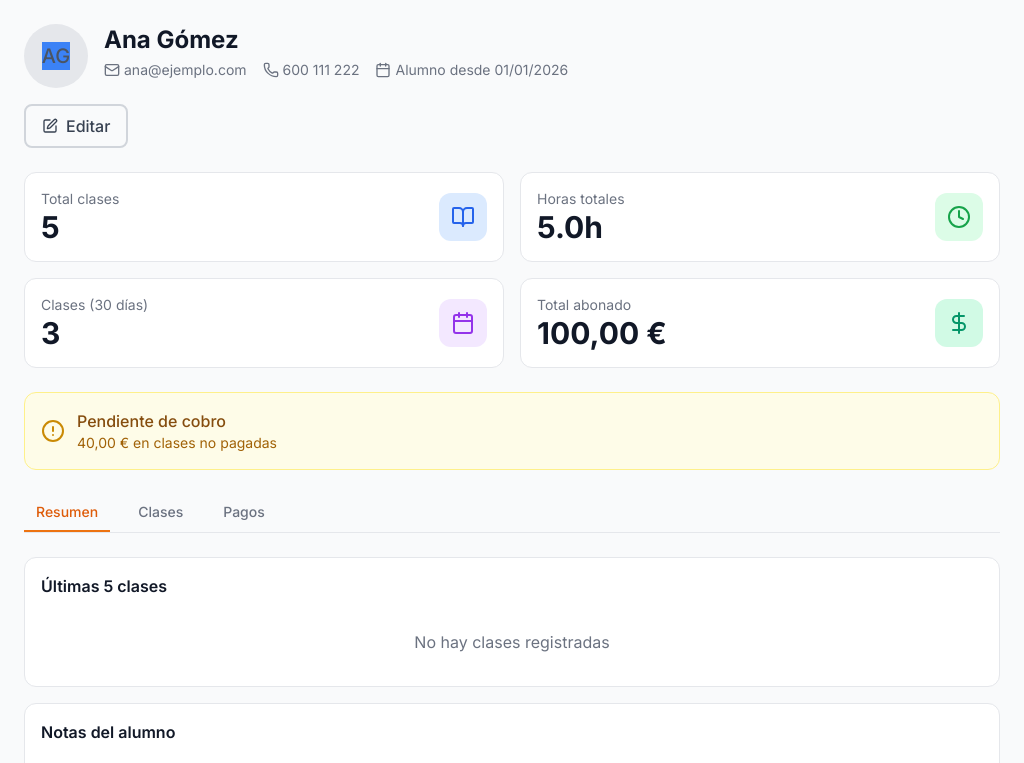
Test case: total abonado › en la pestaña Pagos muestra abonado, pendiente y total facturado
The image size is (1024, 763).
Click the tab "Pagos": (244, 513) top-left (211, 494), bottom-right (277, 532)
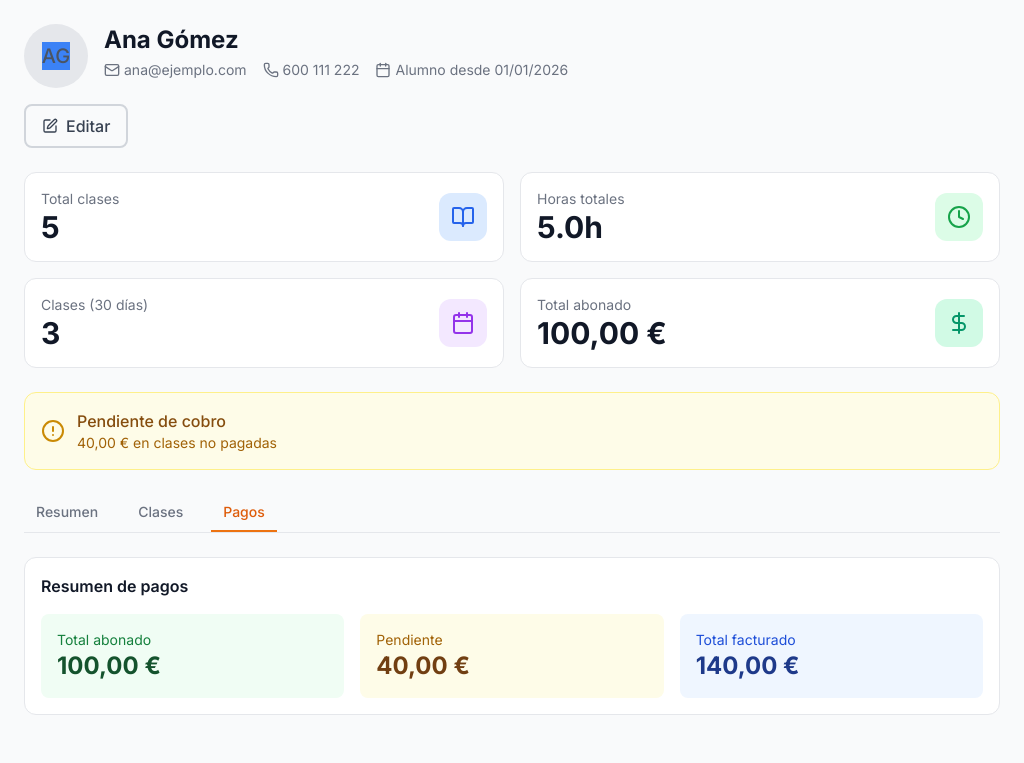
expect the text "Total abonado" is shown: met, box top-left (537, 296), bottom-right (631, 313)
expect the text "140,00" is shown: met, box top-left (696, 651), bottom-right (800, 680)
